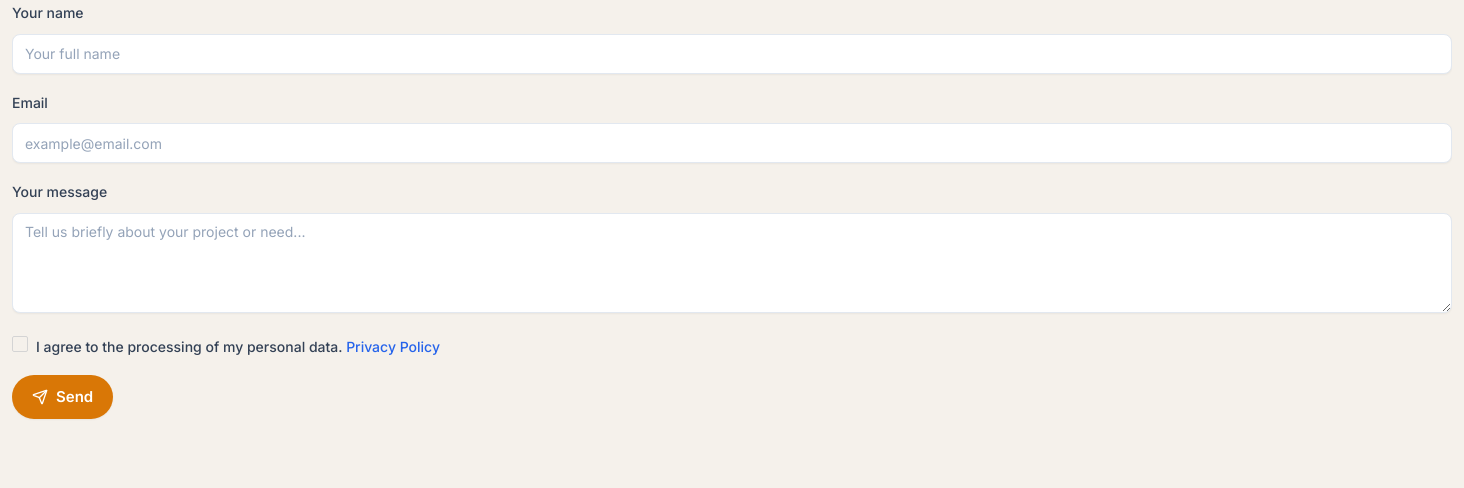
it: ContactForm › validation (English) › shows error for empty message
Type "John Doe" into the field labelled "Your name" at (732,54), box [12,34,1452,74]
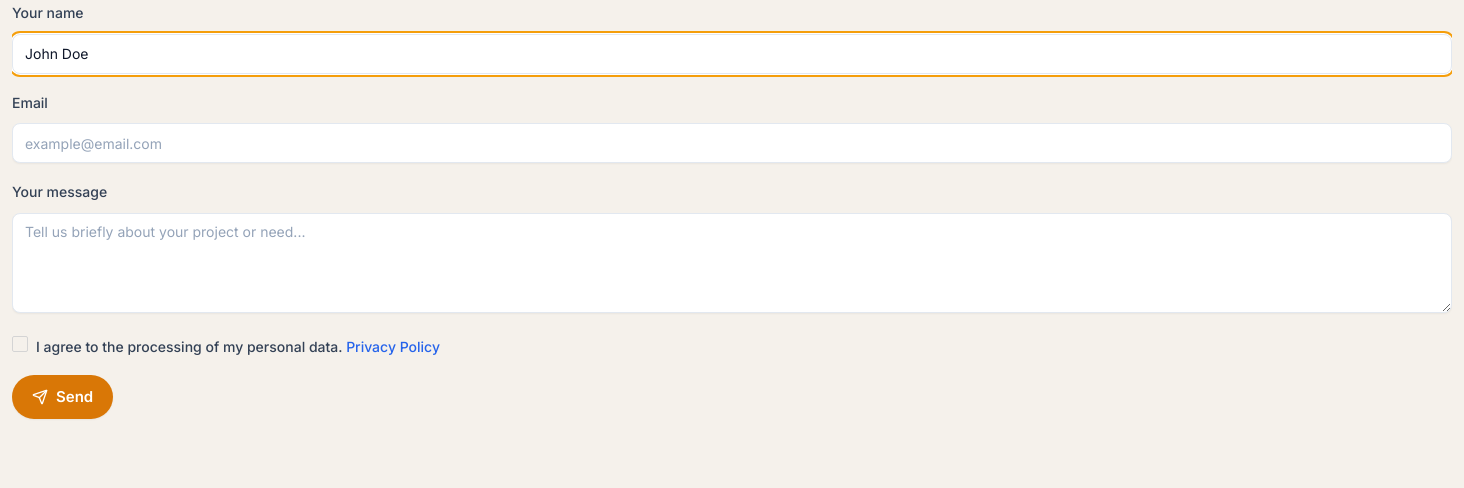
Type "john@example.com" into the field labelled "Email" at (732,143), box [12,123,1452,163]
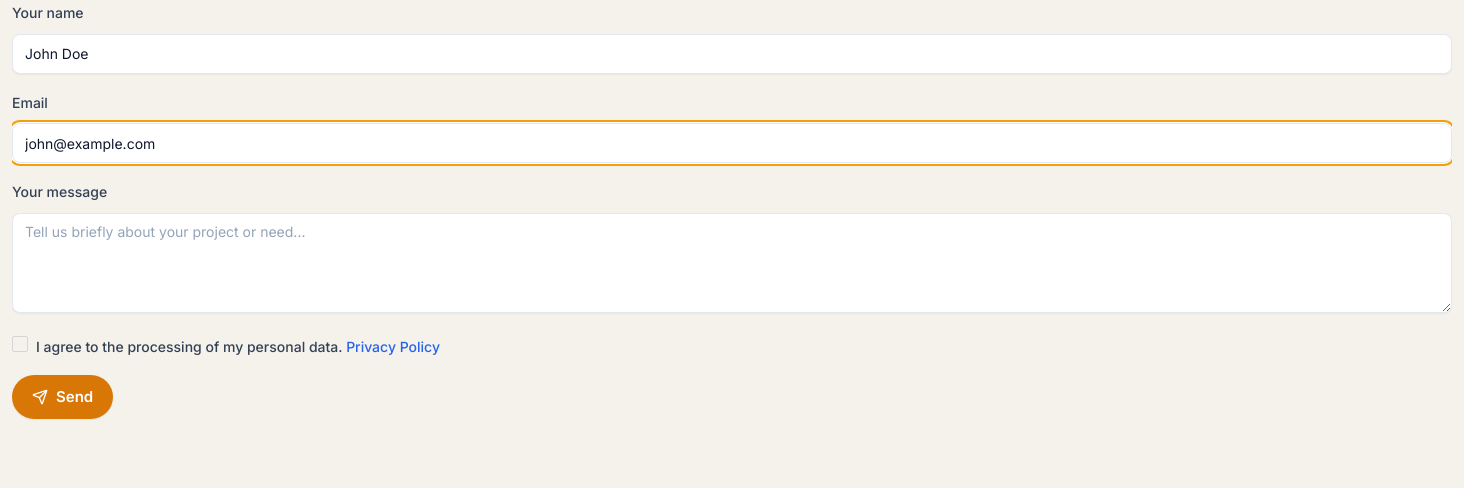
Click the button "Send" at (63,397), box [12,375,113,419]
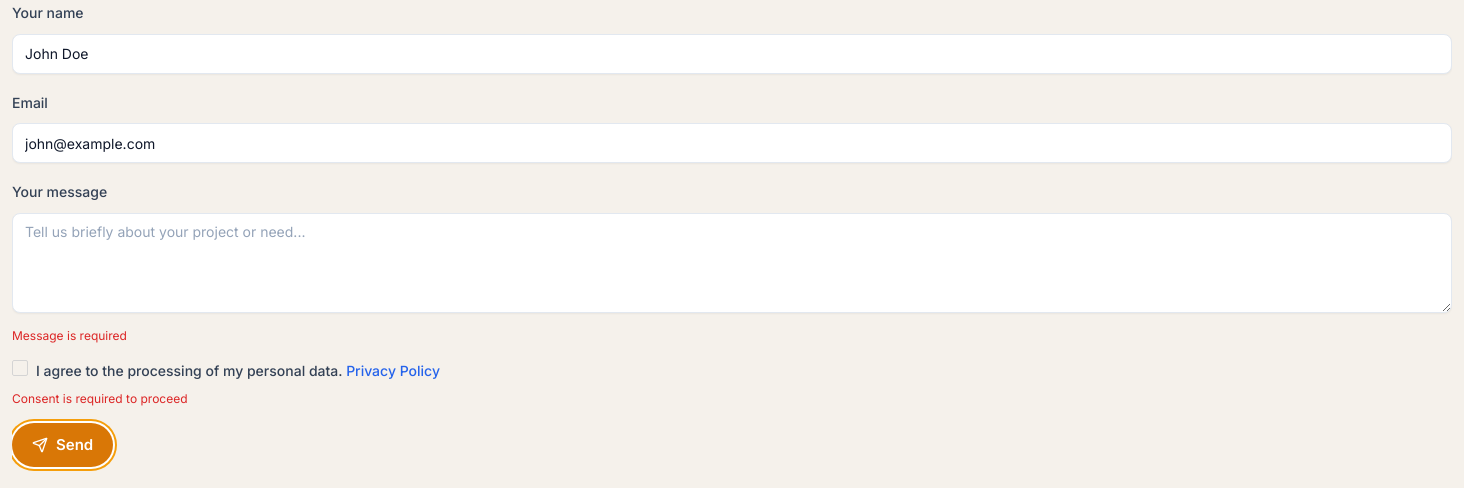
Now the text "Message is required" is shown, box [12,328,127,343]
